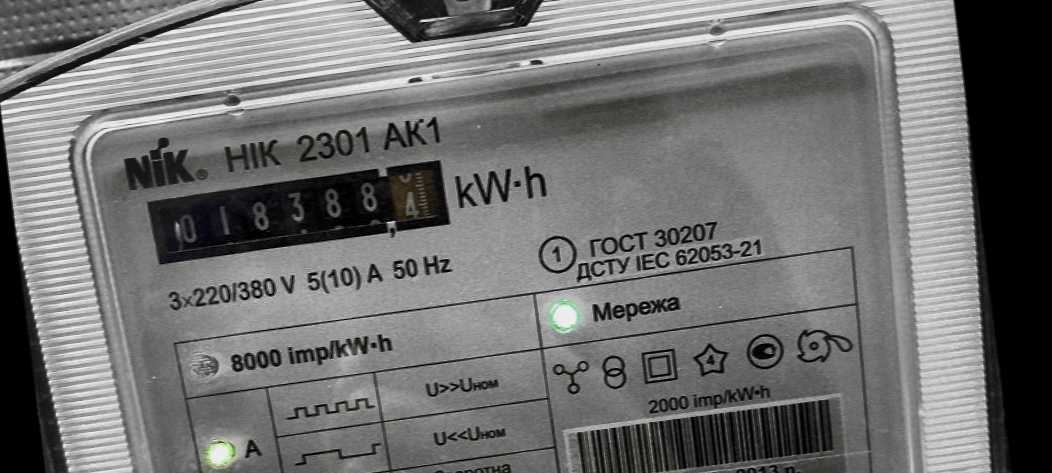0: (176, 207, 200, 245)
1: (213, 198, 236, 237)
3: (285, 187, 310, 224)
4: (399, 185, 423, 220)
8: (248, 194, 273, 233), (357, 176, 382, 214), (321, 183, 345, 220)
screen: (138, 147, 465, 276)
